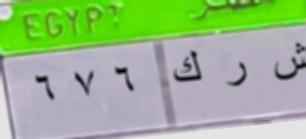6: (32, 70, 57, 106), (109, 65, 140, 94)
7: (70, 66, 97, 107)
kaaf: (170, 48, 205, 87)
raa: (221, 57, 250, 91)
sheen: (268, 41, 306, 83)
